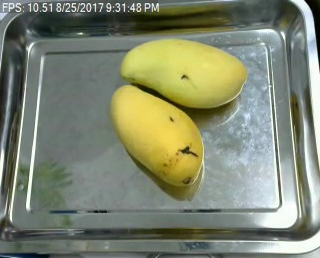Mango: (111, 84, 203, 186), (121, 37, 246, 106)
